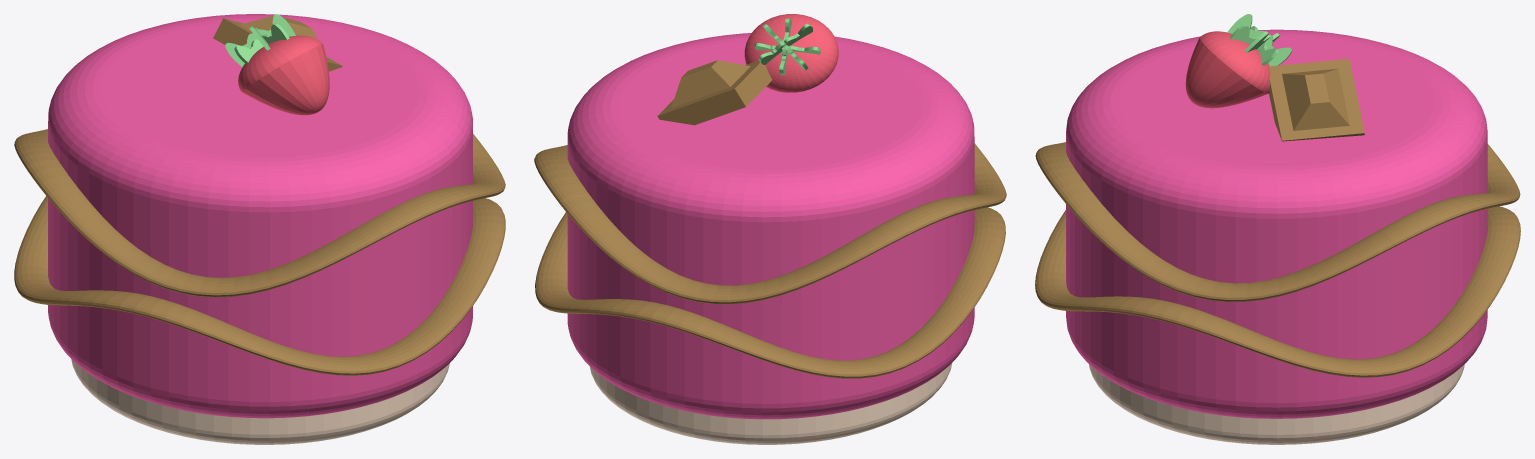
Rendered from strawberrycake.glb.
3 renders of one model, left to right at view 1: azimuth 30°, elevation 25°; view 2: azimuth 150°, elevation 25°; view 3: azimuth 270°, elevation 25°, orthographic. The views are drawn at different scales.
Parts seen in each view (by area): view 1: obj_0.002; view 2: obj_0.002; view 3: obj_0.002.
Part boxes in pixels (x1=…): obj_0.002: x1=14, y1=14, x2=505, y2=444; obj_0.002: x1=534, y1=14, x2=1006, y2=444; obj_0.002: x1=1035, y1=14, x2=1520, y2=444.
Bounding box in the file's own units: 10.39 × 8.56 × 10.61.
